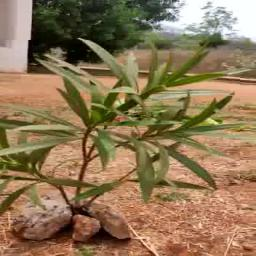OLEANDER: (0, 40, 242, 205)
